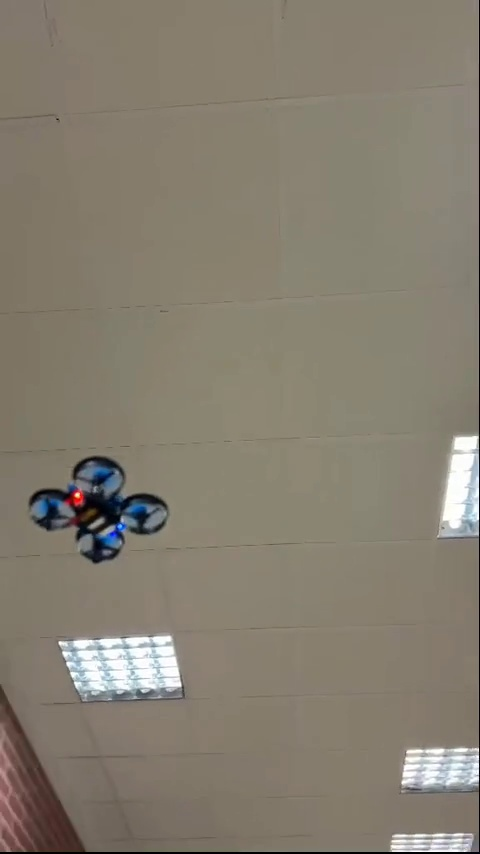drone: (32, 457, 165, 571)
